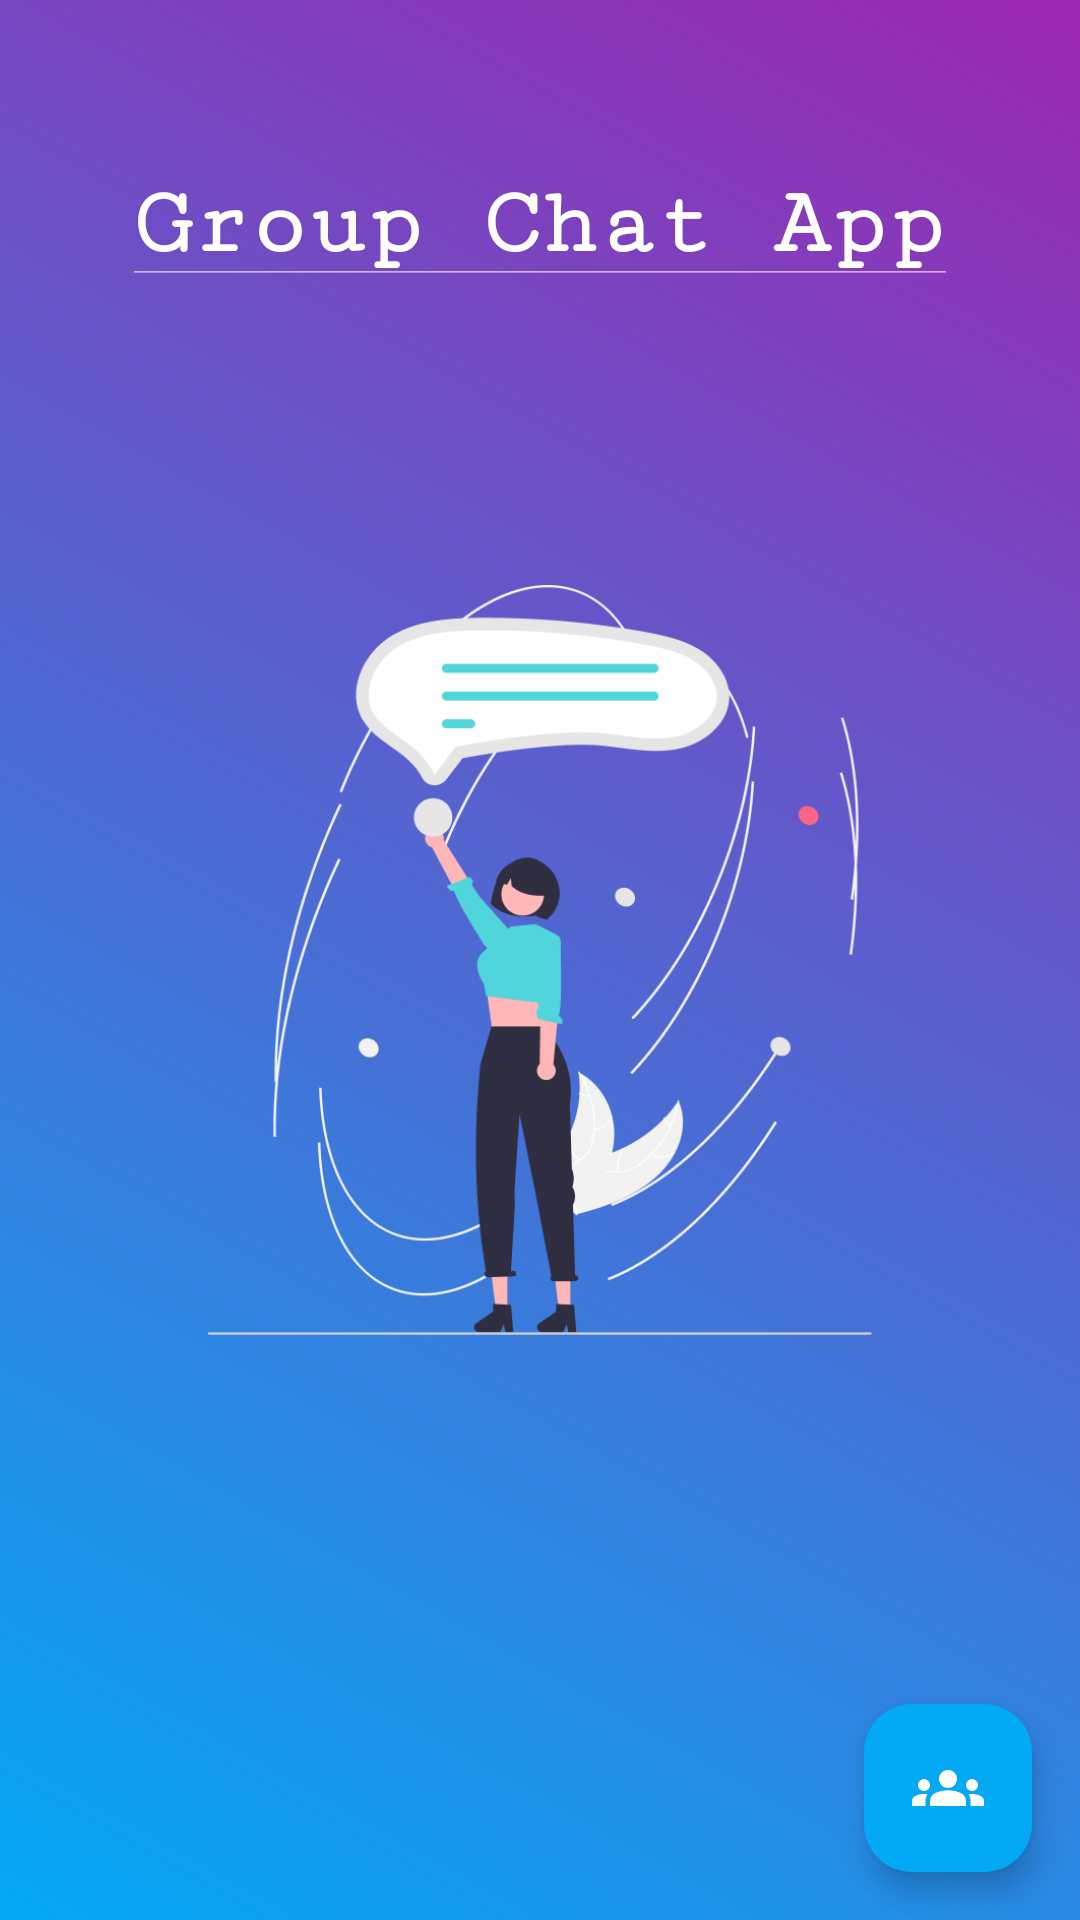

Where icons sit on this 1080×1920 app screen, as (left=x1, top=y1, right=x2, bottom=y2):
groups: (left=864, top=1704, right=1032, bottom=1872)
